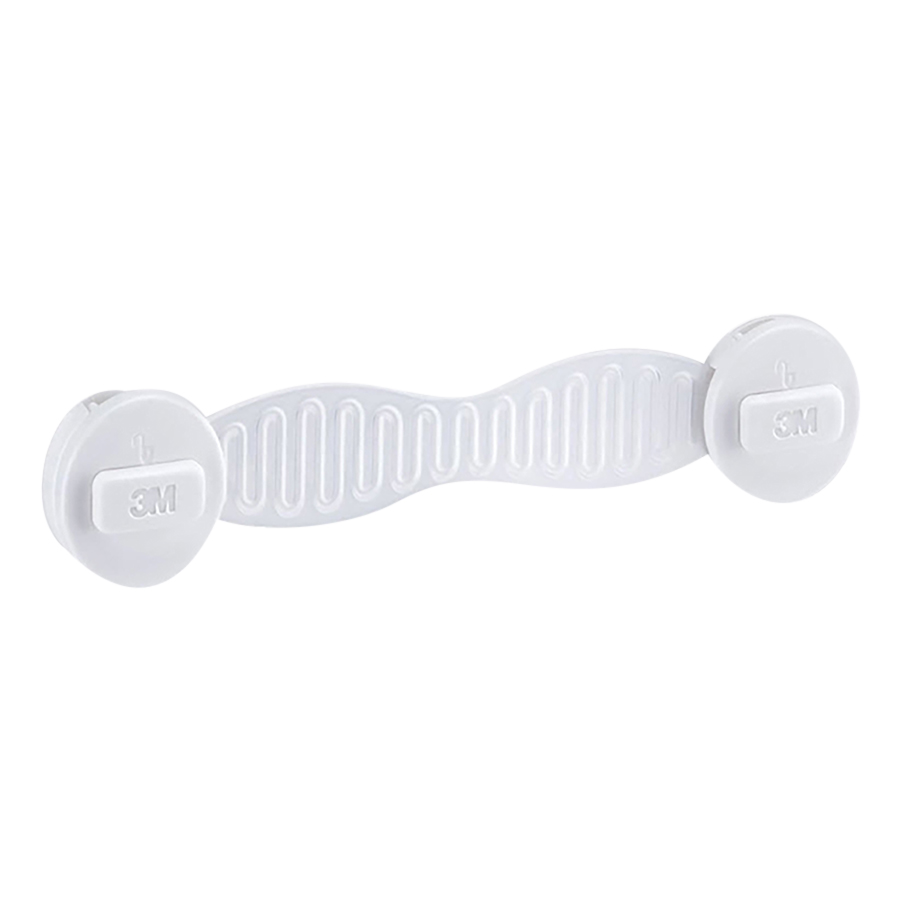3M: (120, 479, 181, 522), (771, 400, 824, 440)
